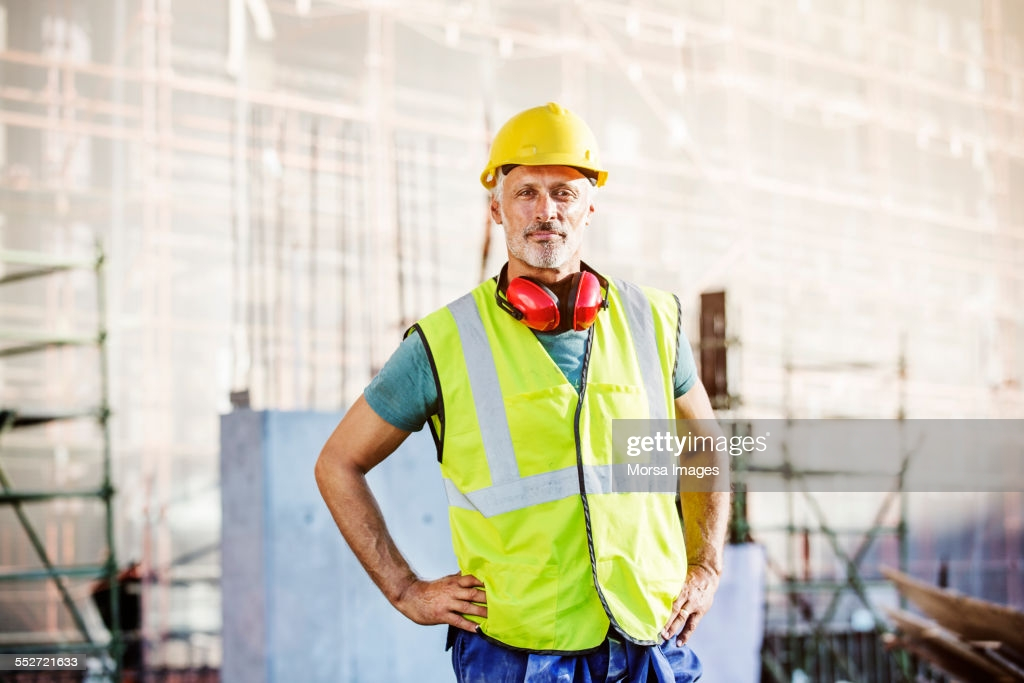With Helmet: (476, 92, 615, 291)
